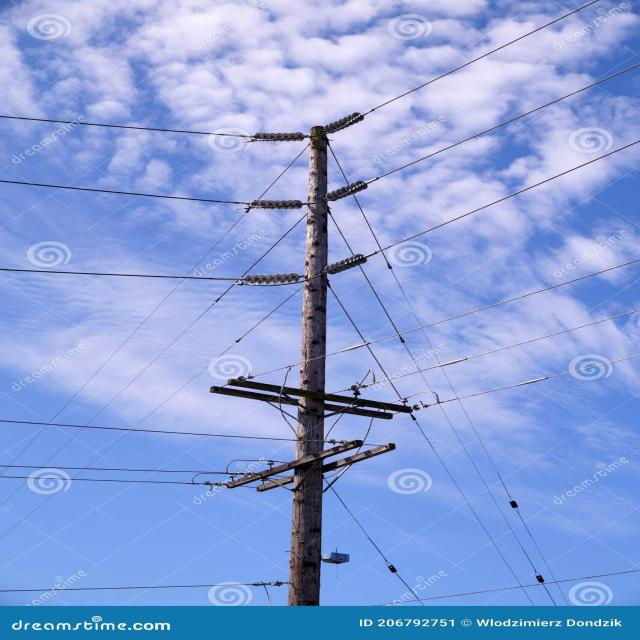light_pole: (202, 376, 420, 429), (240, 251, 372, 287), (245, 178, 370, 213), (250, 110, 366, 144)
